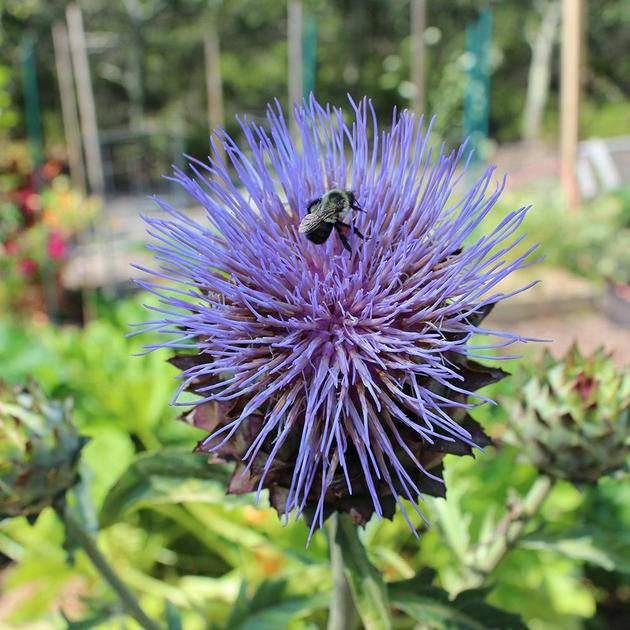thistle: (145, 87, 532, 545)
